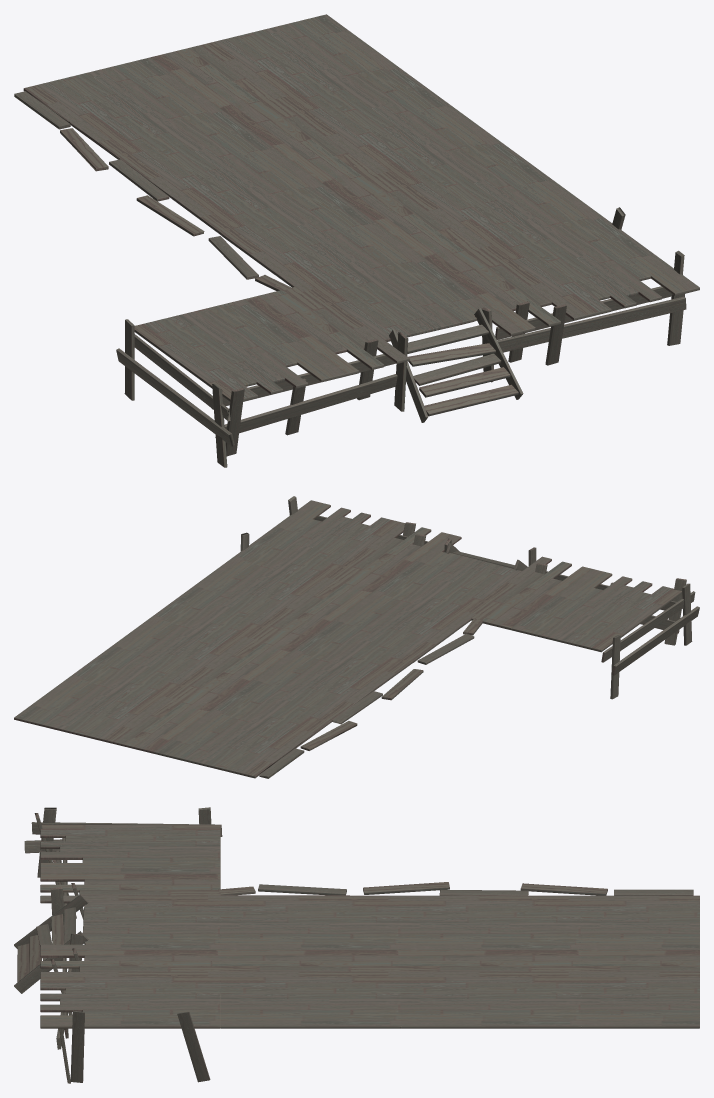
The model's file is shitt_flooring 1.fbx.
3 renders of one model, top to bottom at view 1: azimuth 30°, elevation 25°; view 2: azimuth 150°, elevation 25°; view 3: azimuth 270°, elevation 25°, orthographic. The views are drawn at different scales.
Visible parts, largest first — view 1: Object139; view 2: Object139; view 3: Object139.
Boxes of the visible parts, left/top/right/bottom form: Object139: left=14, top=14, right=699, bottom=467; Object139: left=14, top=496, right=699, bottom=778; Object139: left=14, top=807, right=699, bottom=1083.
Size of the model in its own units: 163 by 27.5 by 225.
